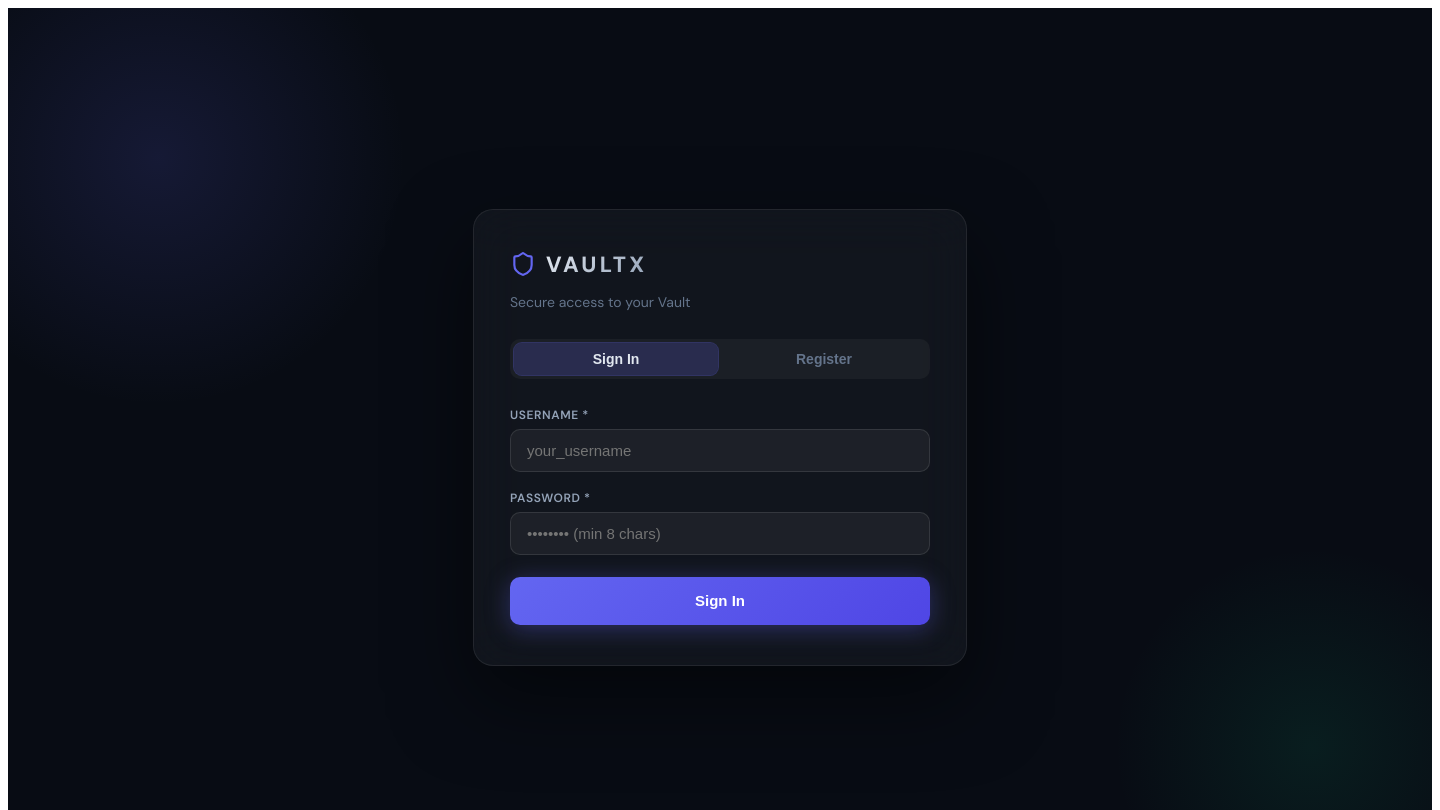
Test case: Login page — render › switching to register reveals email and full-name fields
What coordinates should you click on to do the following:
click the button "Register"
I would click on:
 (824, 358)
Its box is [722,342,926,374].
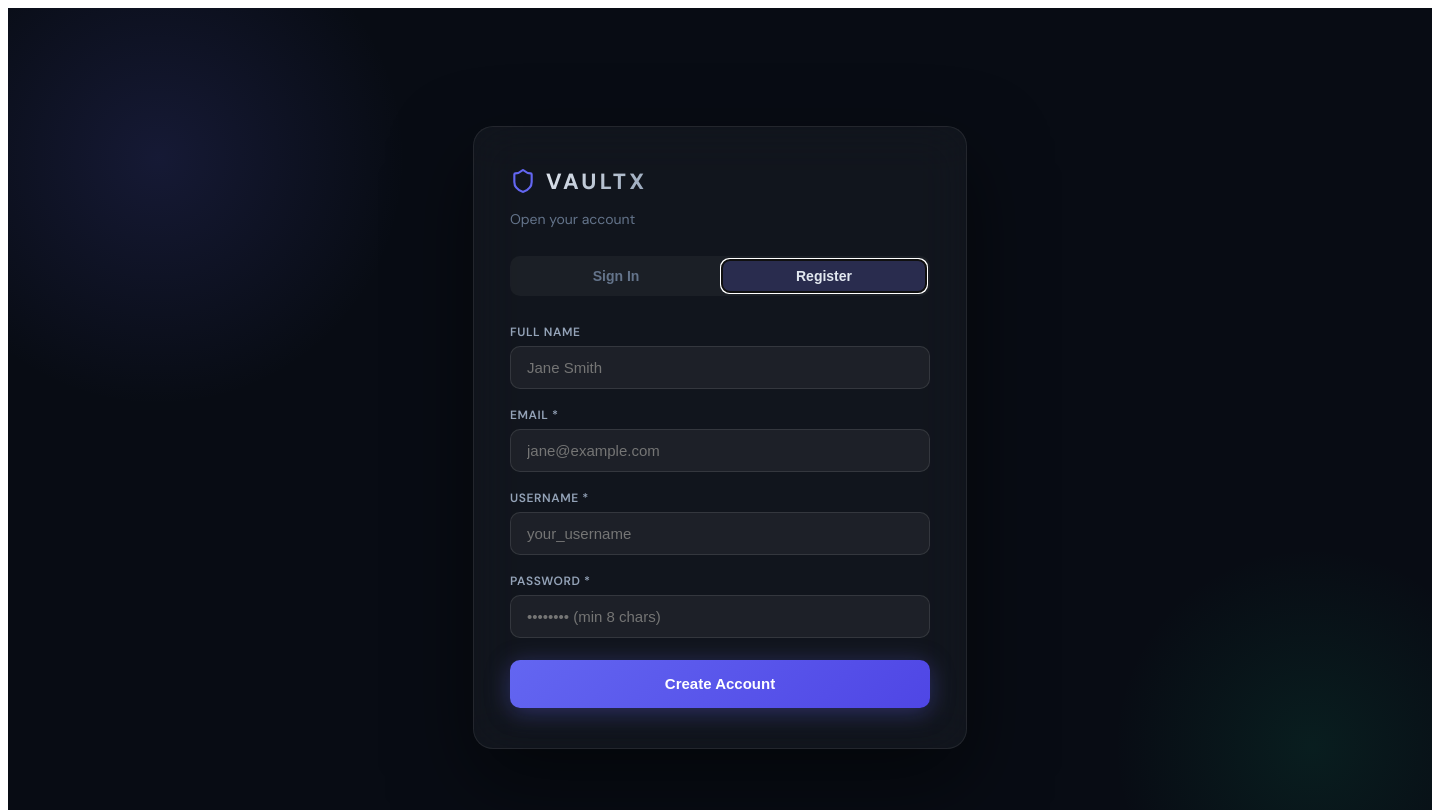
Now the field with placeholder "jane@example.com" is shown, box [510,428,930,472]
Now the field with placeholder "Jane Smith" is shown, box [510,346,930,388]
